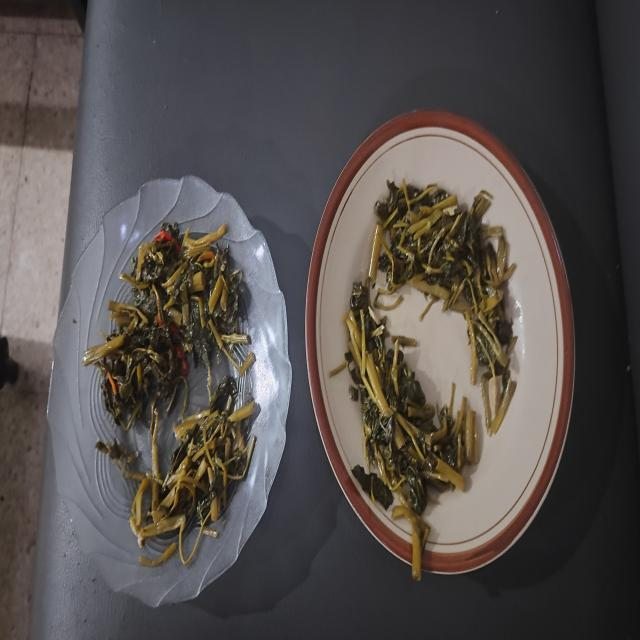tumis_kangkung: (342, 283, 478, 579), (375, 179, 517, 434), (90, 223, 254, 420), (126, 376, 260, 565)
